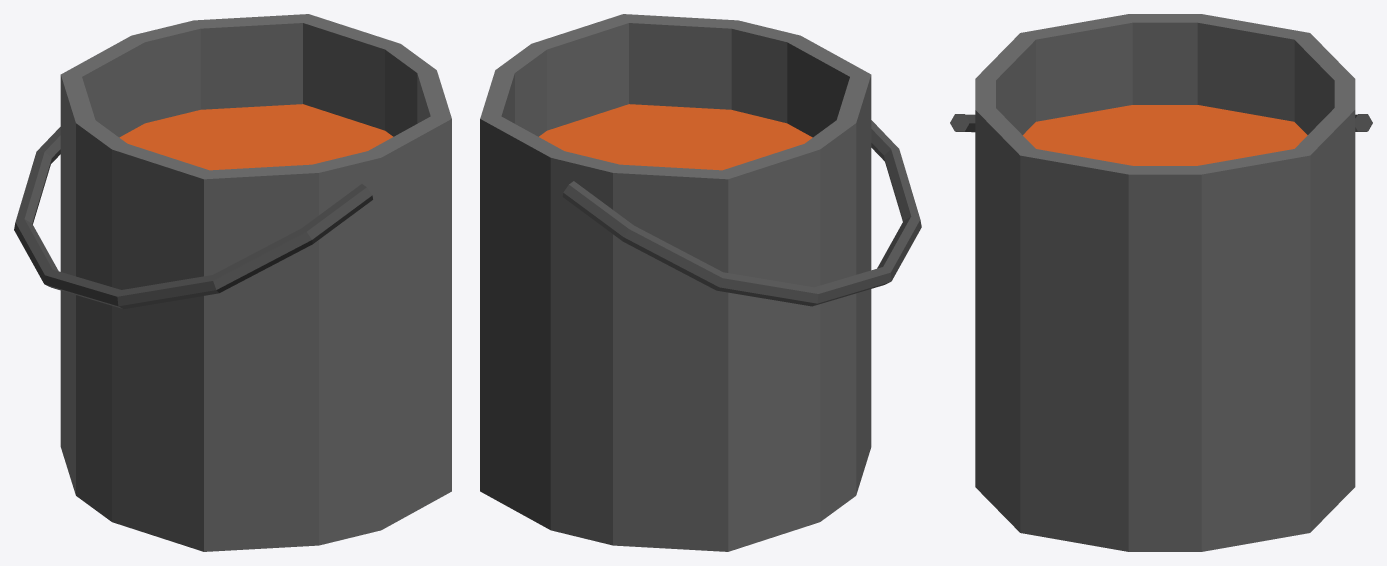
3 views of the same model, side by side, from view 1: azimuth 30°, elevation 25°; view 2: azimuth 150°, elevation 25°; view 3: azimuth 270°, elevation 25° (orthographic).
Visible parts, largest first — view 1: G-30, Torus.005; view 2: G-30, Torus.005; view 3: G-30, Torus.005.
Boxes of the visible parts, x1,y1,x2,y2 form: G-30: (60, 14, 451, 551); Torus.005: (14, 127, 372, 308); G-30: (480, 14, 871, 551); Torus.005: (562, 120, 921, 306); G-30: (975, 14, 1355, 551); Torus.005: (950, 114, 1372, 132).
Bounding box in the file's own units: 61.9 × 58.57 × 59.48.
